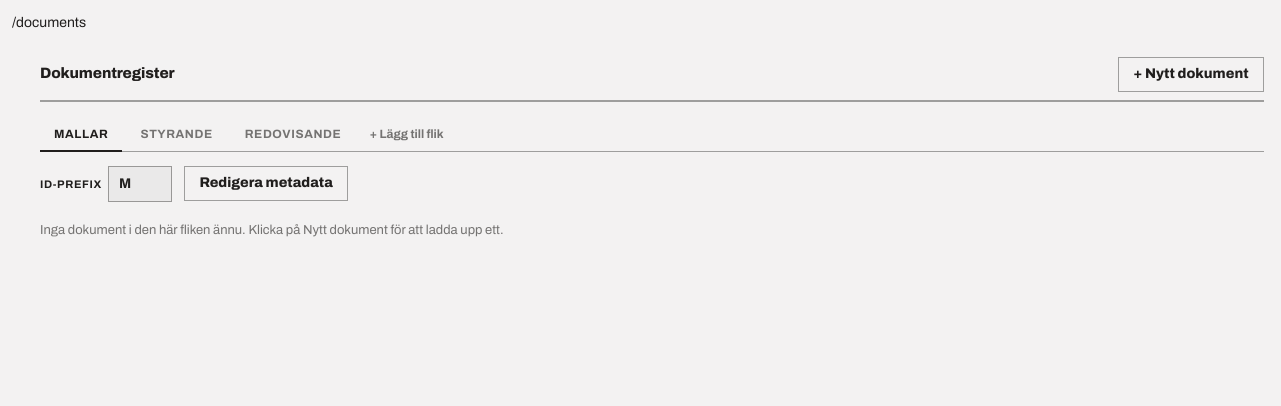
Scenario: document tabs › removes a metadata field from a tab
Click the button "Redigera metadata" at [266, 184], box left=184, top=166, right=348, bottom=201
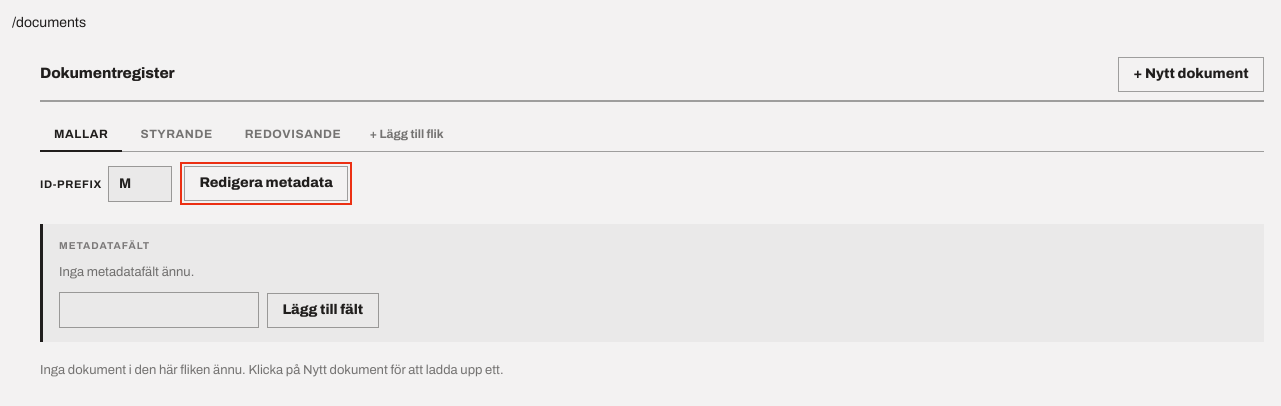
Type "Godkänd av" into the field named "Fältnamn" at [159, 310], box left=59, top=292, right=259, bottom=328
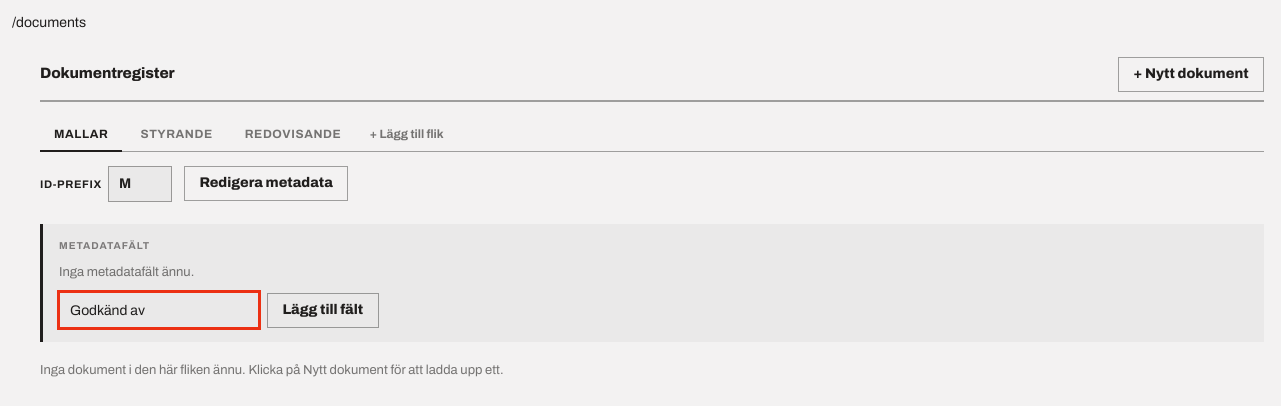
Click the button "Lägg till fält" at [323, 310], box left=267, top=293, right=378, bottom=328
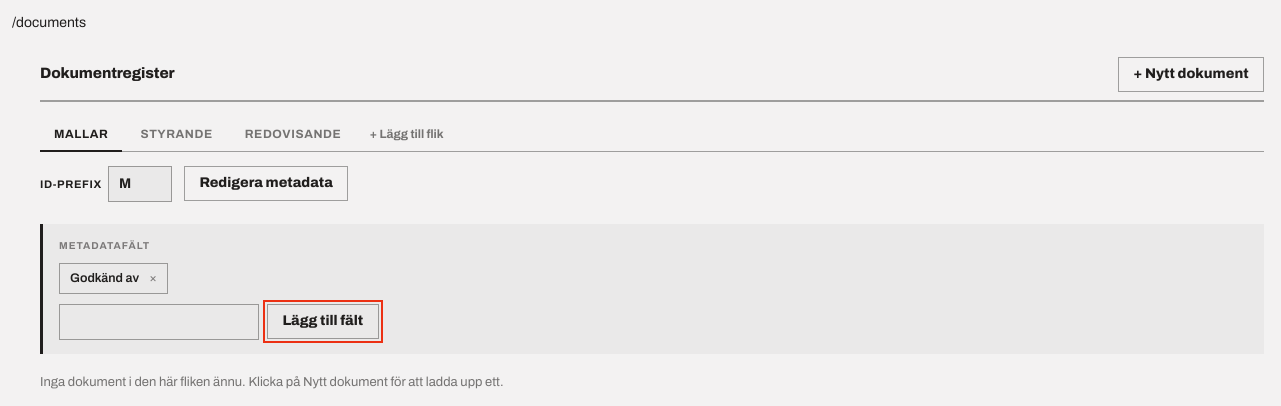
Expected: the list item "Godkänd av" is shown, left=70, top=271, right=139, bottom=285
Click the button named "Ta bort fält Godkänd av" at [153, 278], box left=145, top=270, right=161, bottom=286
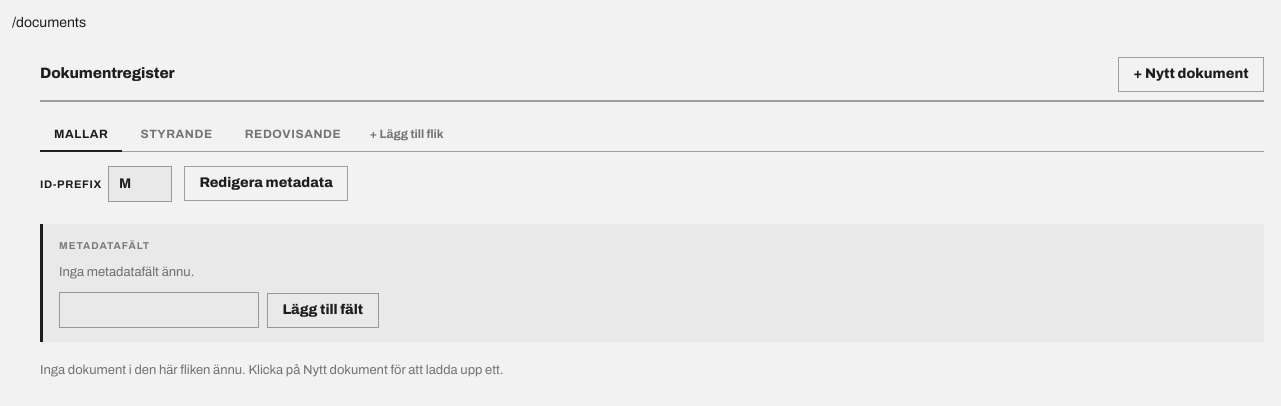
Expected: the list item "Godkänd av" is gone
